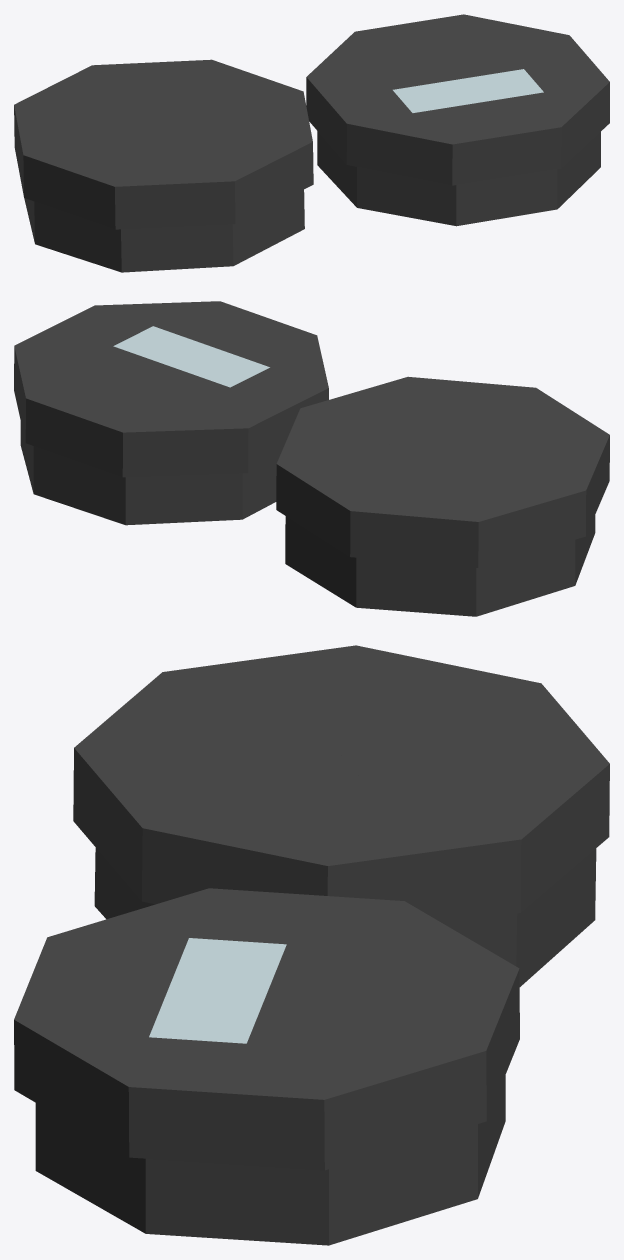
File: covers.glb
3 views of the same model, one above another, from view 1: azimuth 30°, elevation 25°; view 2: azimuth 150°, elevation 25°; view 3: azimuth 270°, elevation 25° (orthographic). The views are drawn at different scales.
Parts seen in each view (by area): view 1: covers; view 2: covers; view 3: covers.
Part boxes in pixels (bbox=[...]): covers: bbox=[14, 14, 609, 272]; covers: bbox=[14, 301, 609, 616]; covers: bbox=[14, 645, 609, 1245].
Bounding box in the file's own units: 0.3154 × 0.0543 × 0.1776.
